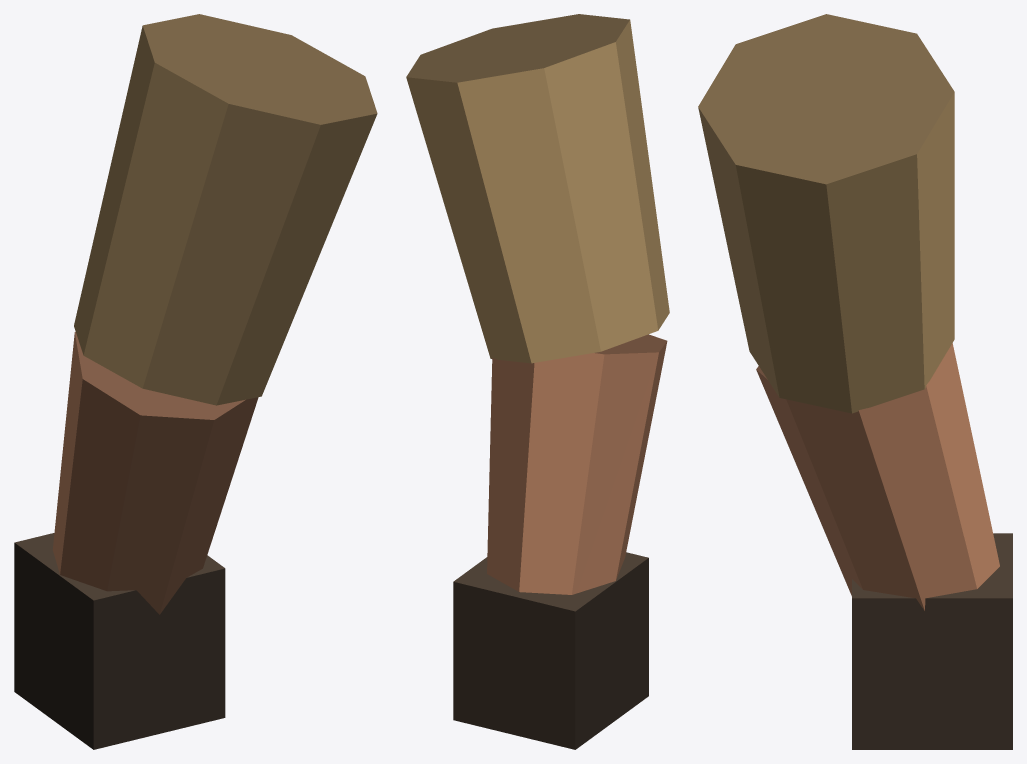
The model's file is terrorist_left_arm.obj.
3 views of the same model, side by side, from view 1: azimuth 30°, elevation 25°; view 2: azimuth 150°, elevation 25°; view 3: azimuth 270°, elevation 25° (orthographic). The views are drawn at different scales.
Parts seen in each view (by area): view 1: terrorist_left_arm; view 2: terrorist_left_arm; view 3: terrorist_left_arm.
Part boxes in pixels (x1=…): terrorist_left_arm: x1=14, y1=14, x2=377, y2=749; terrorist_left_arm: x1=406, y1=14, x2=669, y2=749; terrorist_left_arm: x1=698, y1=14, x2=1012, y2=749.
Size of the model in its own units: 9.83 by 23.83 by 9.79.
Materials: 1 (1 with a texture image).
